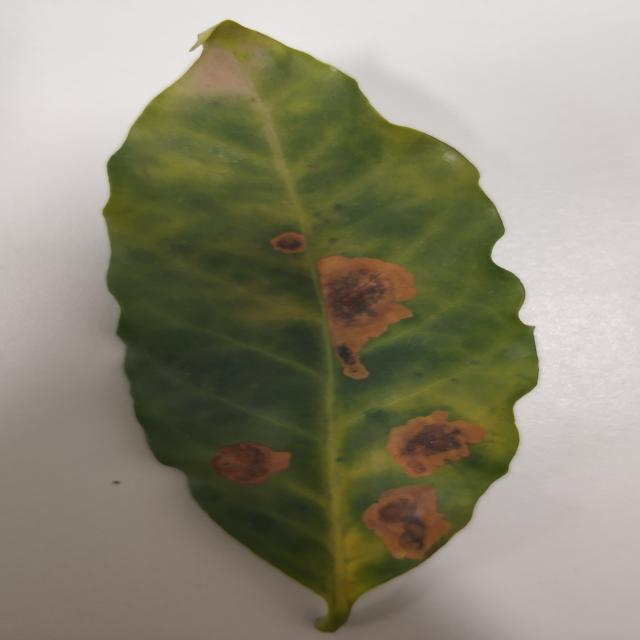Plaga-Minador: (101, 20, 539, 631)
